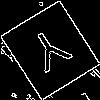Y: (25, 25, 79, 82)
